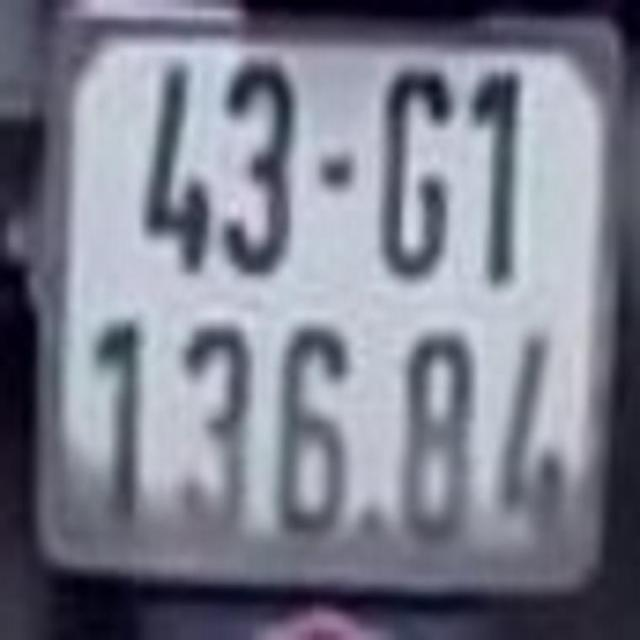1: (465, 53, 535, 288), (91, 314, 149, 529)
3: (222, 54, 294, 286), (184, 314, 252, 529)
4: (498, 314, 572, 556), (147, 58, 213, 285)
6: (277, 312, 355, 539)
8: (405, 321, 475, 544)
G: (378, 57, 456, 282)
